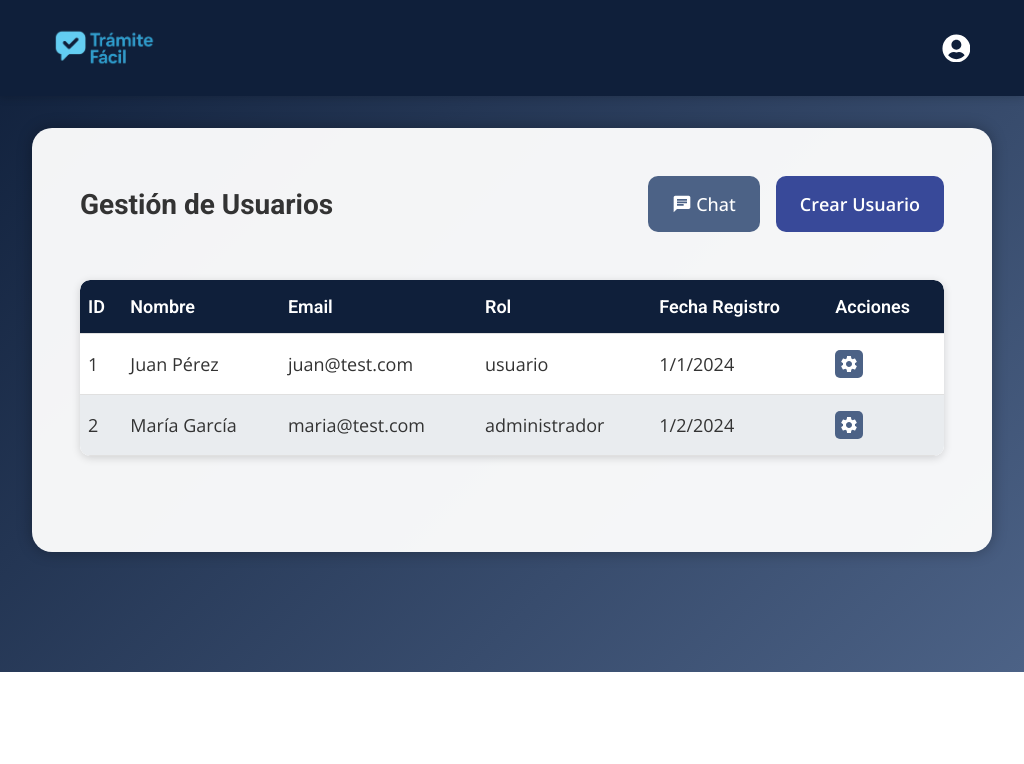
it: AdminUsers Component › user creation › shows create form when button clicked
What coordinates should you click on to do the following:
click the button "Crear Usuario"
I would click on:
 (860, 204)
Its box is [776,176,944,232].
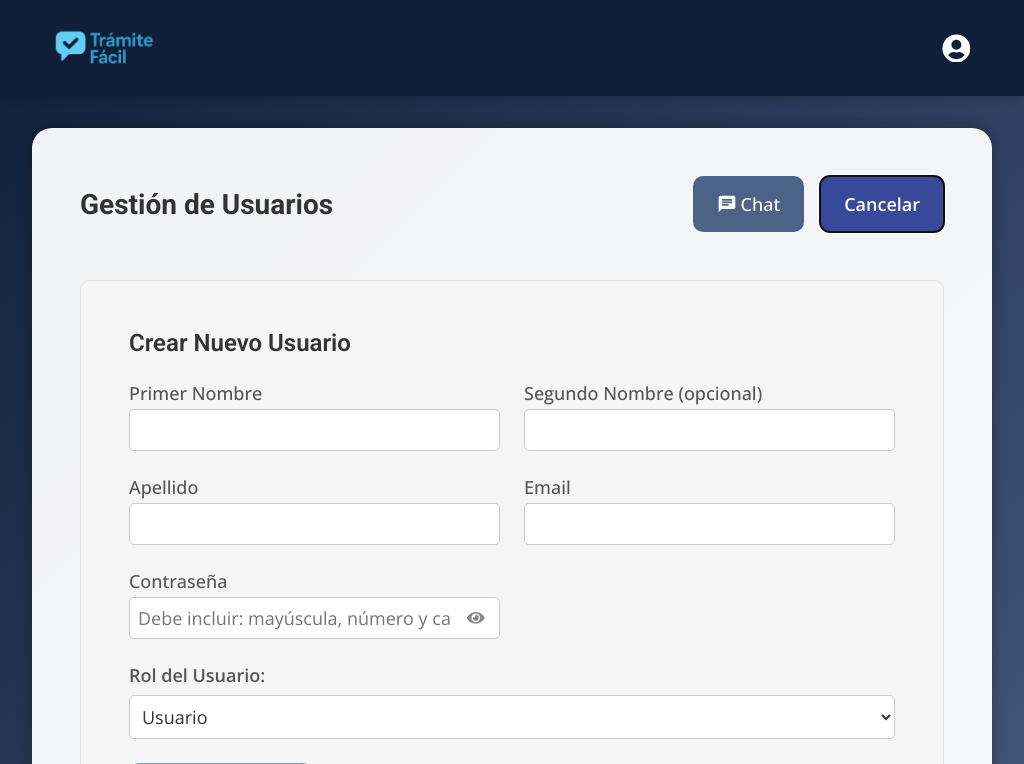
expect the heading "Crear Nuevo Usuario" is shown: met, box [129,329,351,357]
expect the text "Primer Nombre" is shown: met, box [129,381,262,405]
expect the text "Segundo Nombre (opcional)" is shown: met, box [524,381,762,405]
